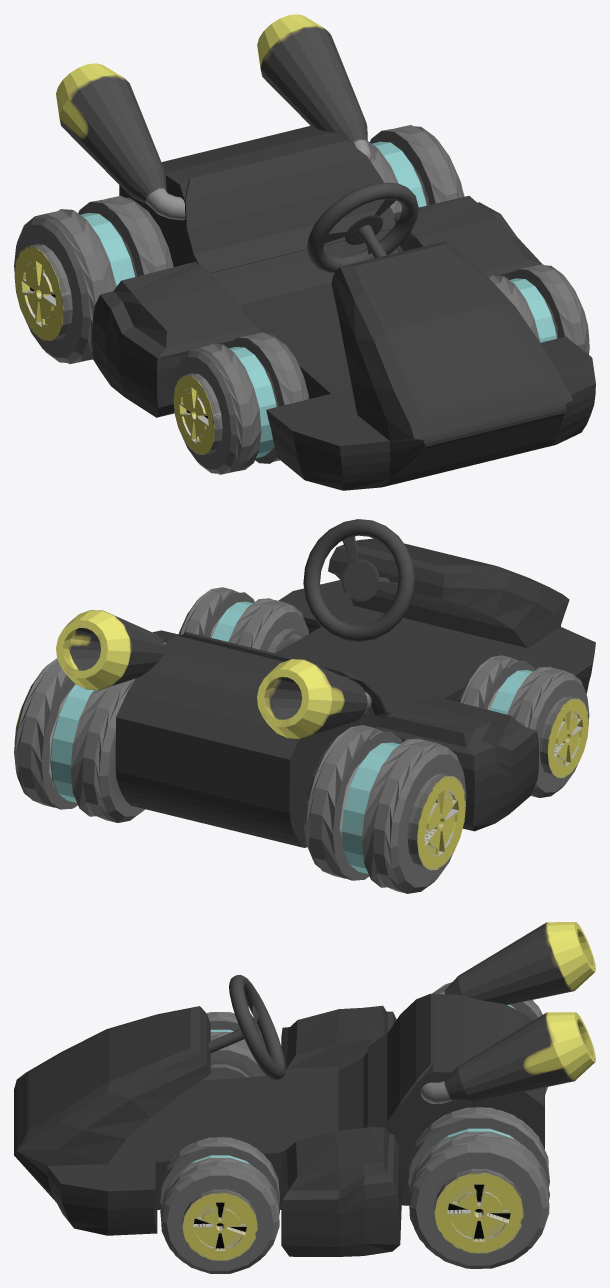
The model's file is Kart2.fbx.
The picture shows the model from 3 angles, top to bottom: view 1: azimuth 30°, elevation 25°; view 2: azimuth 150°, elevation 25°; view 3: azimuth 270°, elevation 25°; orthographic projection. The views are drawn at different scales.
Parts seen in each view (by area): view 1: Box001, Cylinder003, Cylinder002, Tube001, Tube002, Cylinder001, Cylinder005, Cylinder004; view 2: Box001, Cylinder003, Cylinder005, Cylinder002, Cylinder001, Tube001, Tube002, Cylinder004; view 3: Box001, Cylinder005, Cylinder004, Tube002, Tube001, Cylinder001, Cylinder002, Cylinder003.
Part boxes in pixels (box(x1,y1,x2,y2)): Box001: box(92, 126, 595, 490); Cylinder003: box(14, 195, 173, 364); Cylinder002: box(173, 332, 308, 474); Tube001: box(56, 63, 185, 220); Tube002: box(257, 14, 371, 160); Cylinder001: box(307, 182, 418, 272); Cylinder005: box(367, 125, 464, 213); Cylinder004: box(489, 264, 589, 354); Box001: box(115, 538, 595, 847); Cylinder003: box(303, 725, 466, 893); Cylinder005: box(14, 658, 144, 822); Cylinder002: box(458, 655, 589, 797); Cylinder001: box(303, 519, 415, 642); Tube001: box(257, 659, 371, 739); Tube002: box(56, 610, 165, 689); Cylinder004: box(178, 587, 308, 653); Box001: box(14, 993, 544, 1256); Cylinder005: box(408, 1107, 549, 1268); Cylinder004: box(160, 1137, 279, 1273); Tube002: box(420, 1012, 595, 1103); Tube001: box(439, 922, 595, 1004); Cylinder001: box(208, 975, 285, 1080); Cylinder002: box(201, 1012, 266, 1080); Cylinder003: box(432, 982, 547, 1094).
Size of the model in its own units: 228 by 311 by 134.
Materials: 4 (2 with a texture image).
